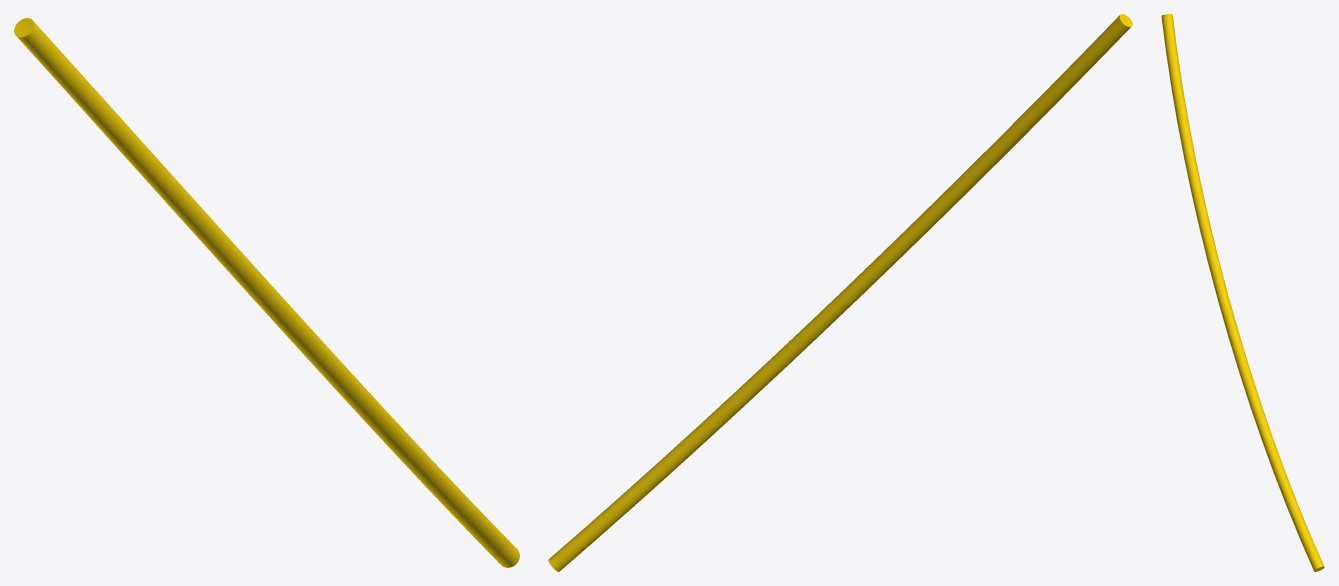
The model's file is Event_421115418_track_2.fbx.
3 views of the same model, side by side, from view 1: azimuth 30°, elevation 25°; view 2: azimuth 150°, elevation 25°; view 3: azimuth 270°, elevation 25° (orthographic). The views are drawn at different scales.
Parts seen in each view (by area): view 1: Model; view 2: Model; view 3: Model.
Part boxes in pixels (x1=…): Model: x1=14, y1=18, x2=519, y2=567; Model: x1=548, y1=14, x2=1132, y2=571; Model: x1=1161, y1=14, x2=1324, y2=571.
Size of the model in its own units: 1.32 by 1.57 by 0.5718.
